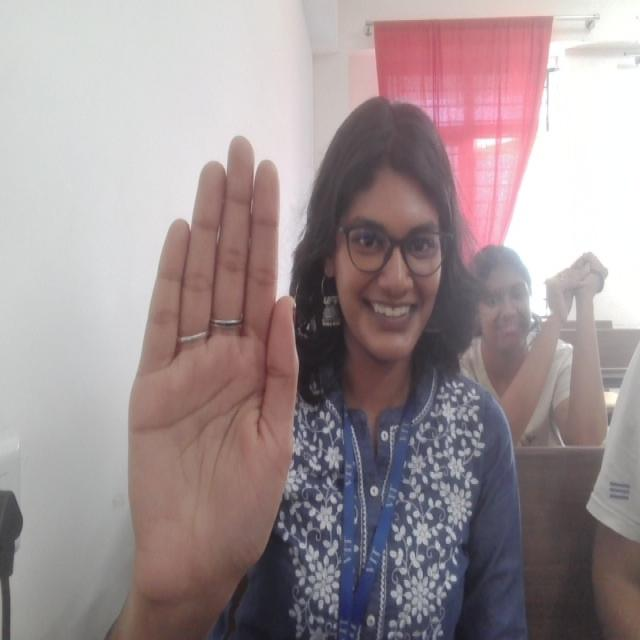hello: (125, 129, 301, 597)
